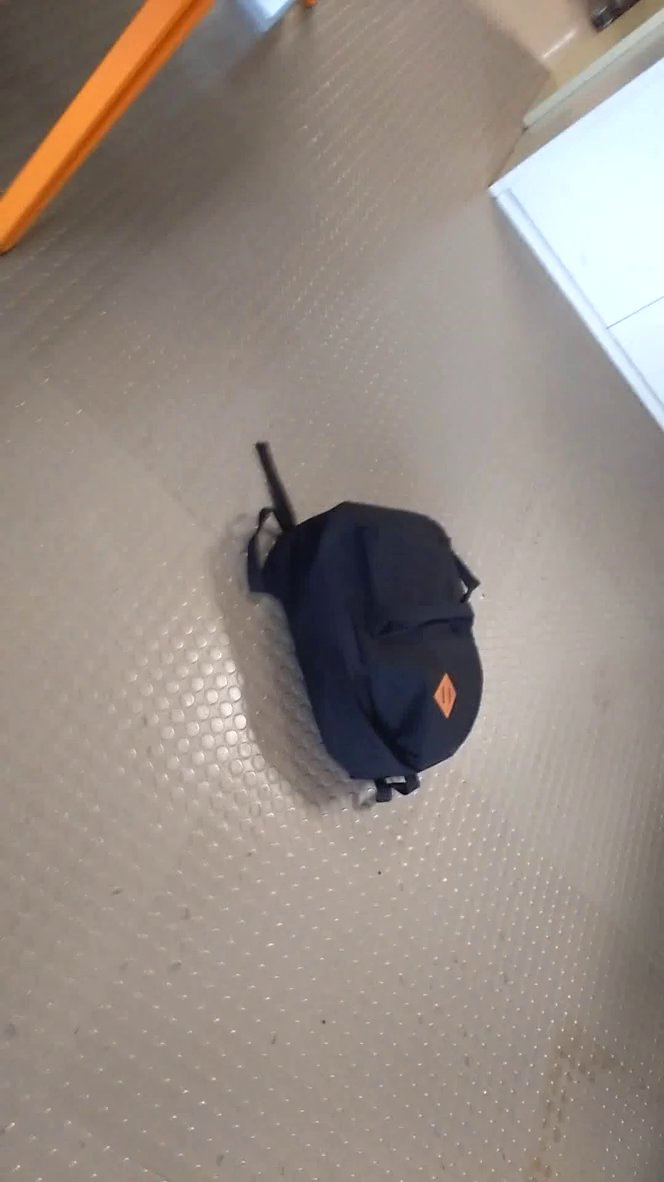bag: (224, 426, 496, 809)
